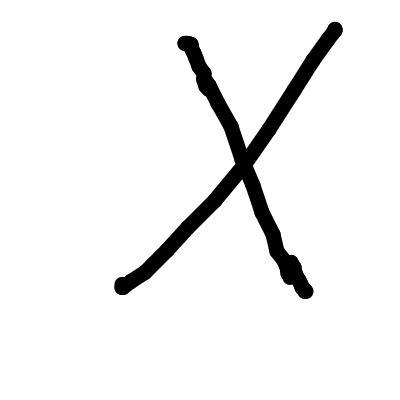mult: (114, 21, 344, 299)
